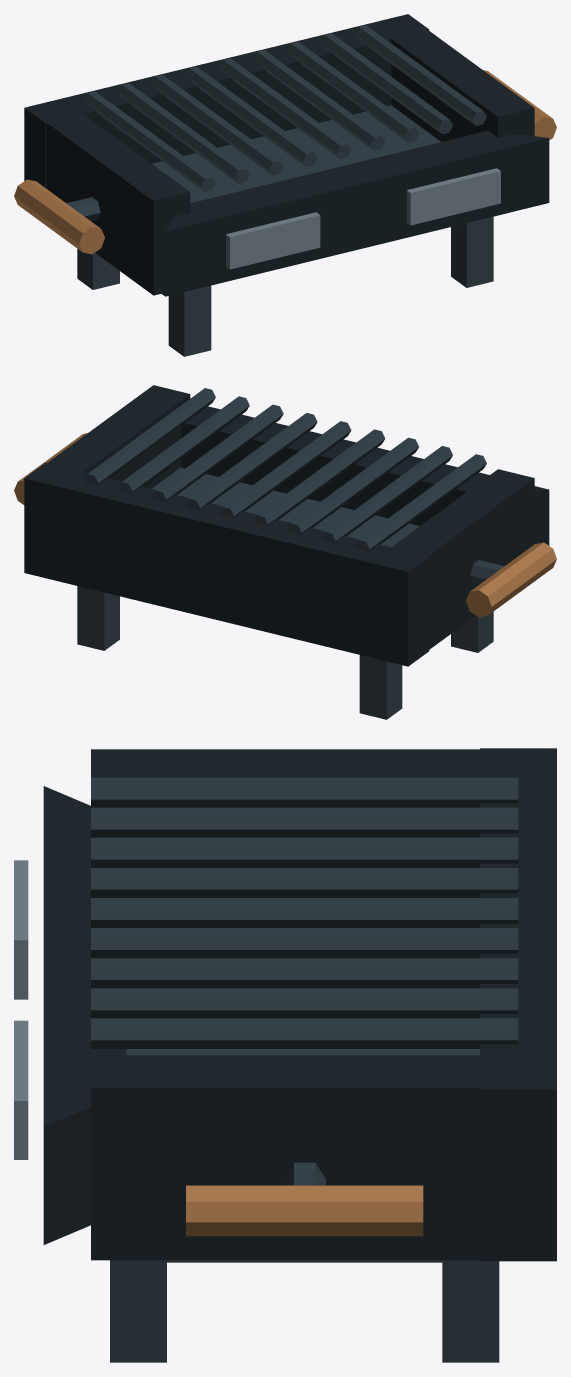
The model's file is b11_cast_iron_hibachi.glb.
The picture shows the model from 3 angles, top to bottom: view 1: azimuth 30°, elevation 25°; view 2: azimuth 150°, elevation 25°; view 3: azimuth 270°, elevation 25°; orthographic projection. The views are drawn at different scales.
Visible parts, largest first — view 1: b11_cast_iron_hibachi; view 2: b11_cast_iron_hibachi; view 3: b11_cast_iron_hibachi.
Part boxes in pixels (bbox=[...]): b11_cast_iron_hibachi: bbox=[14, 14, 556, 356]; b11_cast_iron_hibachi: bbox=[14, 385, 556, 719]; b11_cast_iron_hibachi: bbox=[14, 748, 556, 1362].
Size of the model in its own units: 0.846 by 0.3013 by 0.4575.
